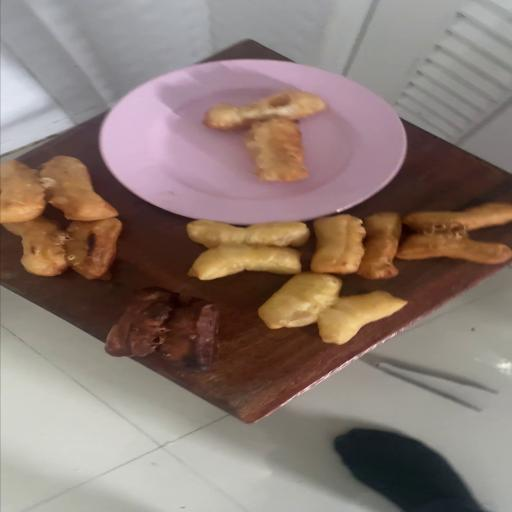street_burnt_defect: (103, 288, 219, 370), (0, 217, 122, 278)
